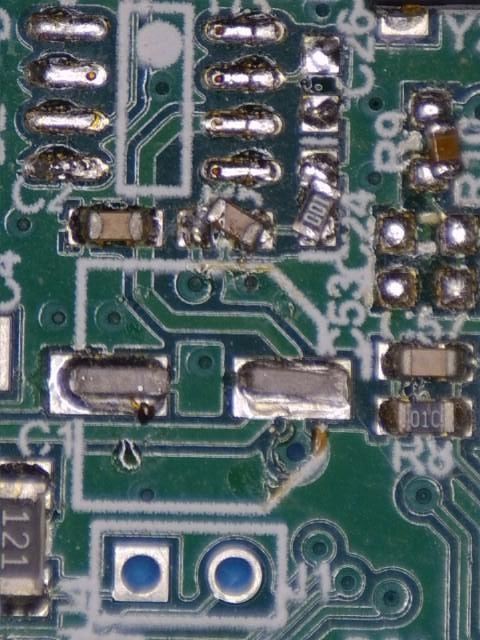pcb_defect: (404, 86, 466, 189), (176, 196, 275, 254), (290, 153, 344, 249)
